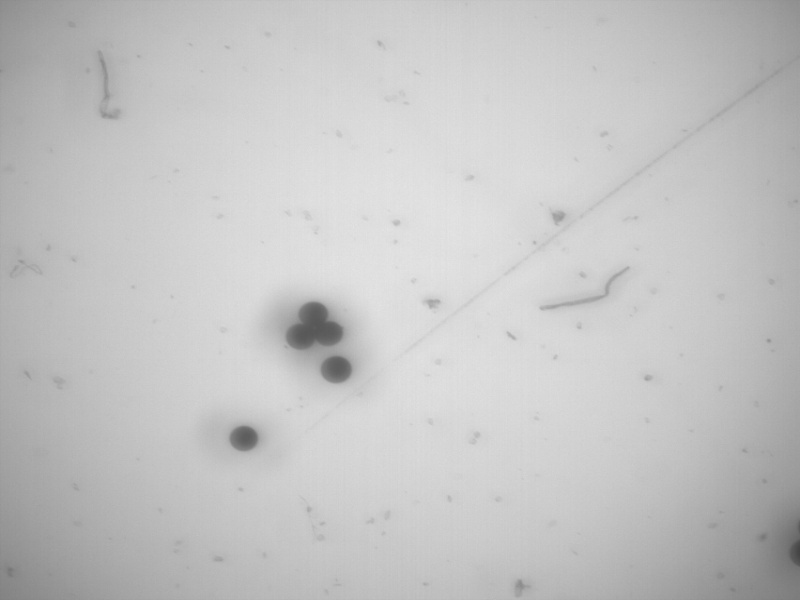bead: (319, 355, 353, 384), (228, 425, 262, 452), (312, 320, 346, 347), (285, 322, 315, 352), (298, 301, 330, 328), (789, 534, 799, 568)
fiber: (537, 261, 634, 313), (95, 45, 122, 122), (8, 257, 43, 280)
